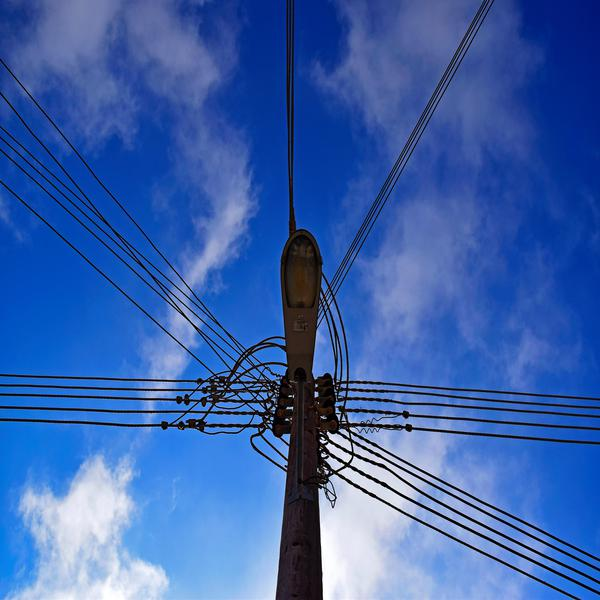utility_pole: (156, 211, 420, 507)
